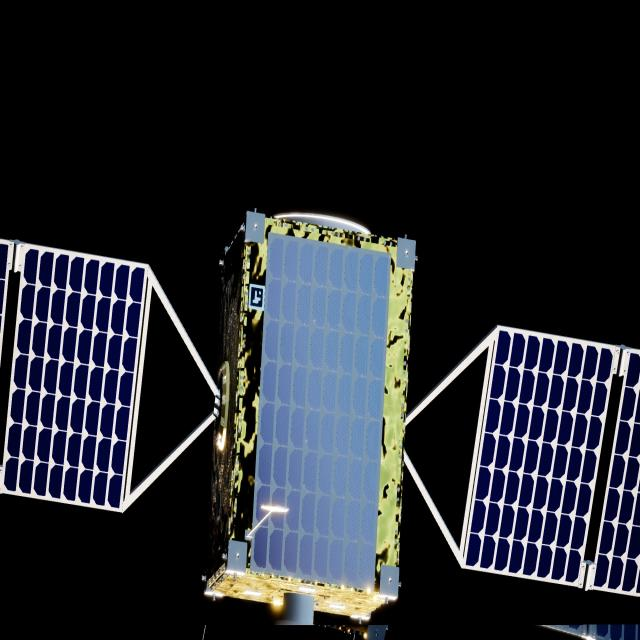medium_debris: (0, 210, 640, 640)
